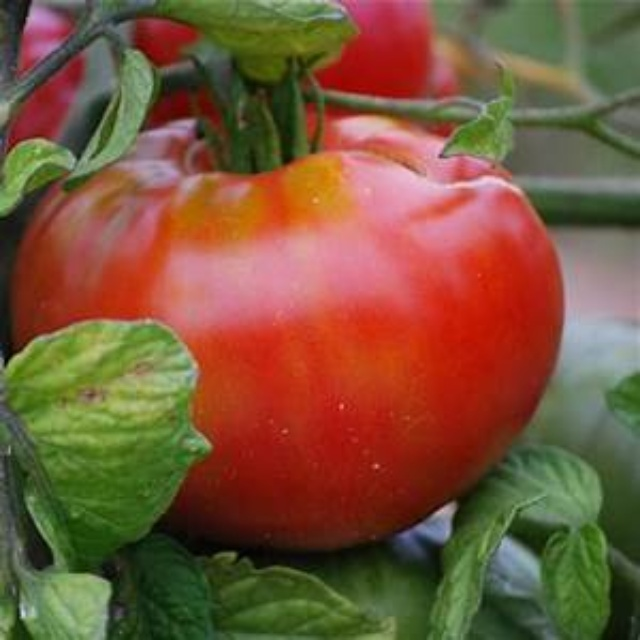tomato: (21, 100, 553, 550)
